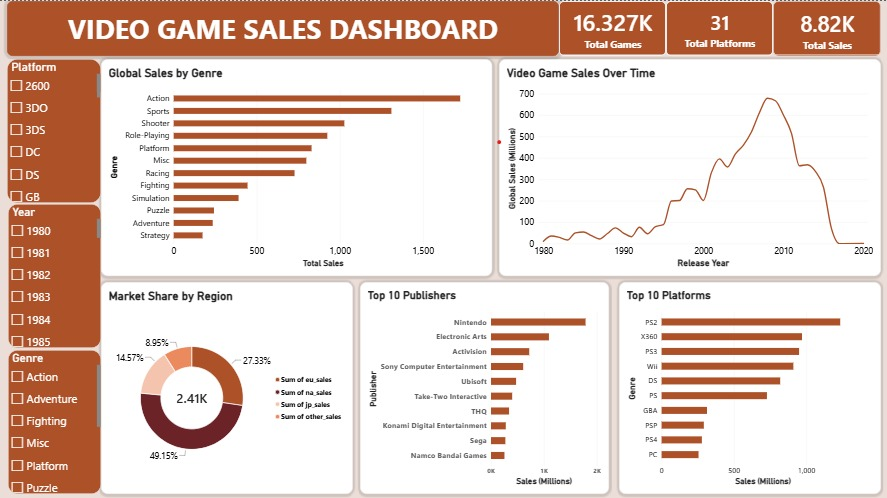

The dashboard page shown, as its layout file describes it:
{"tool":"powerbi","page":{"name":"Dashboard","canvas":[1920,1080],"ordinal":0},"visuals":[{"type":"clusteredBarChart","title":"Global Sales by Genre","fields":{"Category":["video_games_sales.genre"],"Y":["Sum(video_games_sales.global_sales)"]},"box":[220.3,125.3,844.6,468.7],"z":0},{"type":"lineChart","title":"Video Game Sales Over Time","fields":{"Category":["video_games_sales.year"],"Y":["Sum(video_games_sales.global_sales)"]},"box":[1080,125.3,825.1,468.7],"z":1000},{"type":"donutChart","title":"Market Share by Region","fields":{"Y":["Sum(video_games_sales.eu_sales)","Sum(video_games_sales.na_sales)","Sum(video_games_sales.jp_sales)","Sum(video_games_sales.other_sales)"]},"box":[220.3,607,544.3,457.9],"z":2000},{"type":"clusteredBarChart","title":"Top 10 Platforms","fields":{"Category":["video_games_sales.platform"],"Y":["Sum(video_games_sales.global_sales)"]},"box":[1339.2,607,565.9,457.9],"z":3000},{"type":"clusteredBarChart","title":"Top 10 Publishers","fields":{"Category":["video_games_sales.publisher"],"Y":["Sum(video_games_sales.global_sales)"]},"box":[779.8,607,537.8,457.9],"z":4000},{"type":"textbox","box":[1392,240,180,284],"z":5000},{"type":"textbox","box":[17.3,0,1192.3,118.8],"z":6000},{"type":"textbox","box":[1770,128,150,480],"z":7000},{"type":"cardVisual","title":"Sum of global sale","fields":{"Data":["Count(video_games_sales.platform)"]},"box":[1440.7,0,231.1,118.8],"z":8000},{"type":"cardVisual","title":"Sum of global sale","fields":{"Data":["Sum(video_games_sales.global_sales)"]},"box":[1671.8,0,233.3,118.8],"z":9000},{"type":"cardVisual","fields":{"Data":["CountNonNull(video_games_sales.rank)"]},"box":[1209.6,0,231.1,118.8],"z":10000},{"type":"slicer","fields":{"Values":["video_games_sales.genre"]},"box":[19.4,753.8,200.9,311],"z":11000},{"type":"slicer","fields":{"Values":["video_games_sales.platform"]},"box":[17.3,125.3,203,311],"z":12000},{"type":"slicer","fields":{"Values":["video_games_sales.year"]},"box":[19.4,438.5,200.9,311],"z":13000}]}

Visuals, with their boxes in screenshot pixels (x1, y1, x2, y2), scaled from the page's 1920x1080 canvas onto the 887x498 screenshot:
"Global Sales by Genre" clusteredBarChart: <bbox>102, 58, 492, 274</bbox>
"Video Game Sales Over Time" lineChart: <bbox>499, 58, 880, 274</bbox>
"Market Share by Region" donutChart: <bbox>102, 280, 353, 491</bbox>
"Top 10 Platforms" clusteredBarChart: <bbox>619, 280, 880, 491</bbox>
"Top 10 Publishers" clusteredBarChart: <bbox>360, 280, 609, 491</bbox>
textbox: <bbox>643, 111, 726, 242</bbox>
textbox: <bbox>8, 0, 559, 55</bbox>
textbox: <bbox>818, 59, 886, 280</bbox>
"Sum of global sale" cardVisual: <bbox>666, 0, 772, 55</bbox>
"Sum of global sale" cardVisual: <bbox>772, 0, 880, 55</bbox>
cardVisual - CountNonNull(video_games_sales.rank): <bbox>559, 0, 666, 55</bbox>
slicer - video_games_sales.genre: <bbox>9, 348, 102, 491</bbox>
slicer - video_games_sales.platform: <bbox>8, 58, 102, 201</bbox>
slicer - video_games_sales.year: <bbox>9, 202, 102, 346</bbox>
